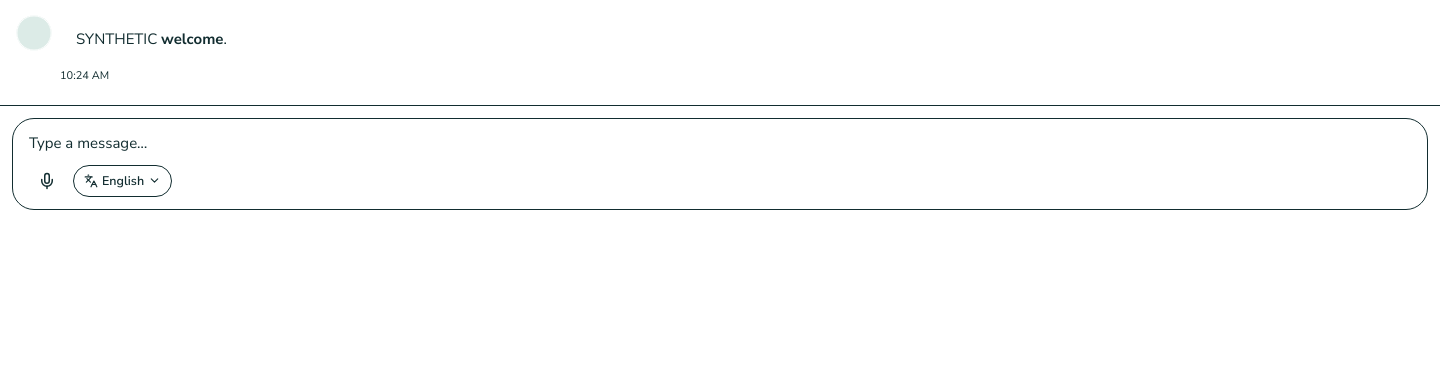
Test: ChatPanel › while the tutor replies, Send becomes Stop, and Stop interrupts
Type "SYNTHETIC question" into the text box named "Message your tutor".
click(720, 143); type("SYNTHETIC question")  # box [29,131,1411,155]
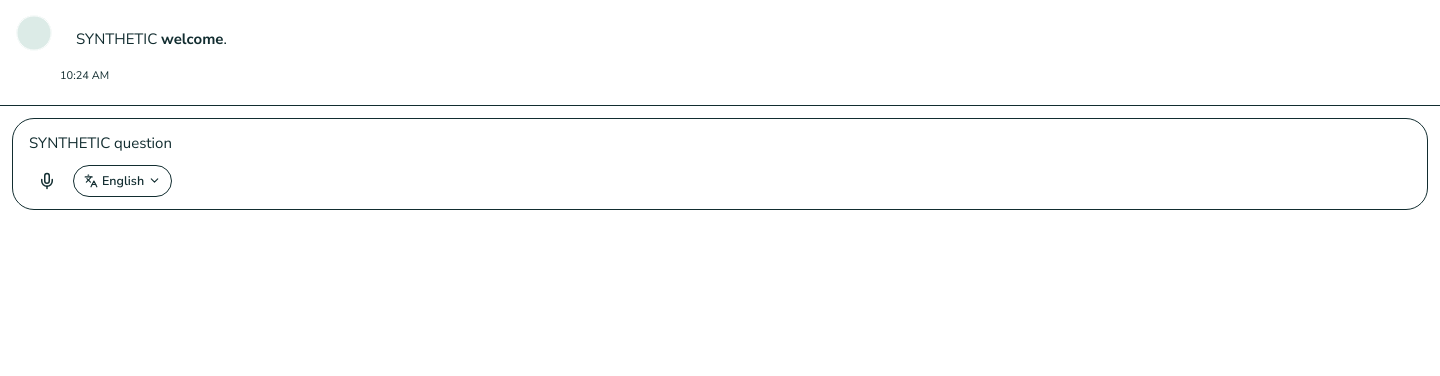
Press Enter in the text box named "Message your tutor", box [29,131,1411,155]
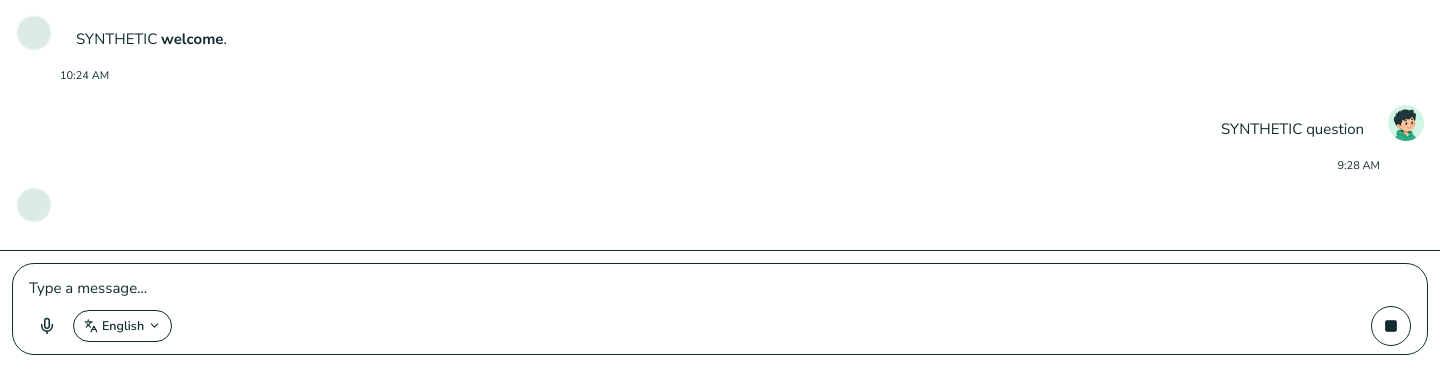
Click the button named "Stop the reply".
click(1391, 326)  # box [1371,306,1411,346]
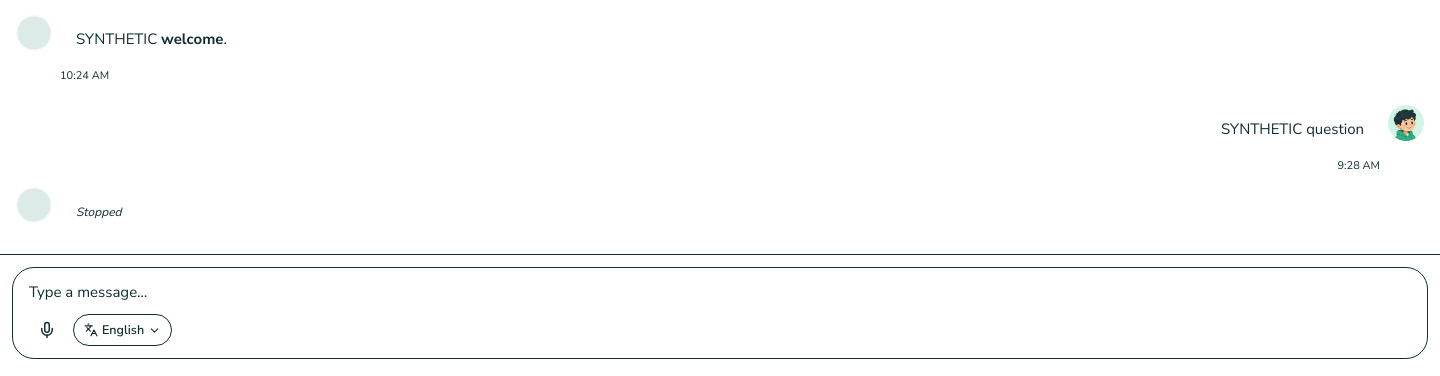
Expected: the text "Stopped" is shown, [76,203,122,222]
